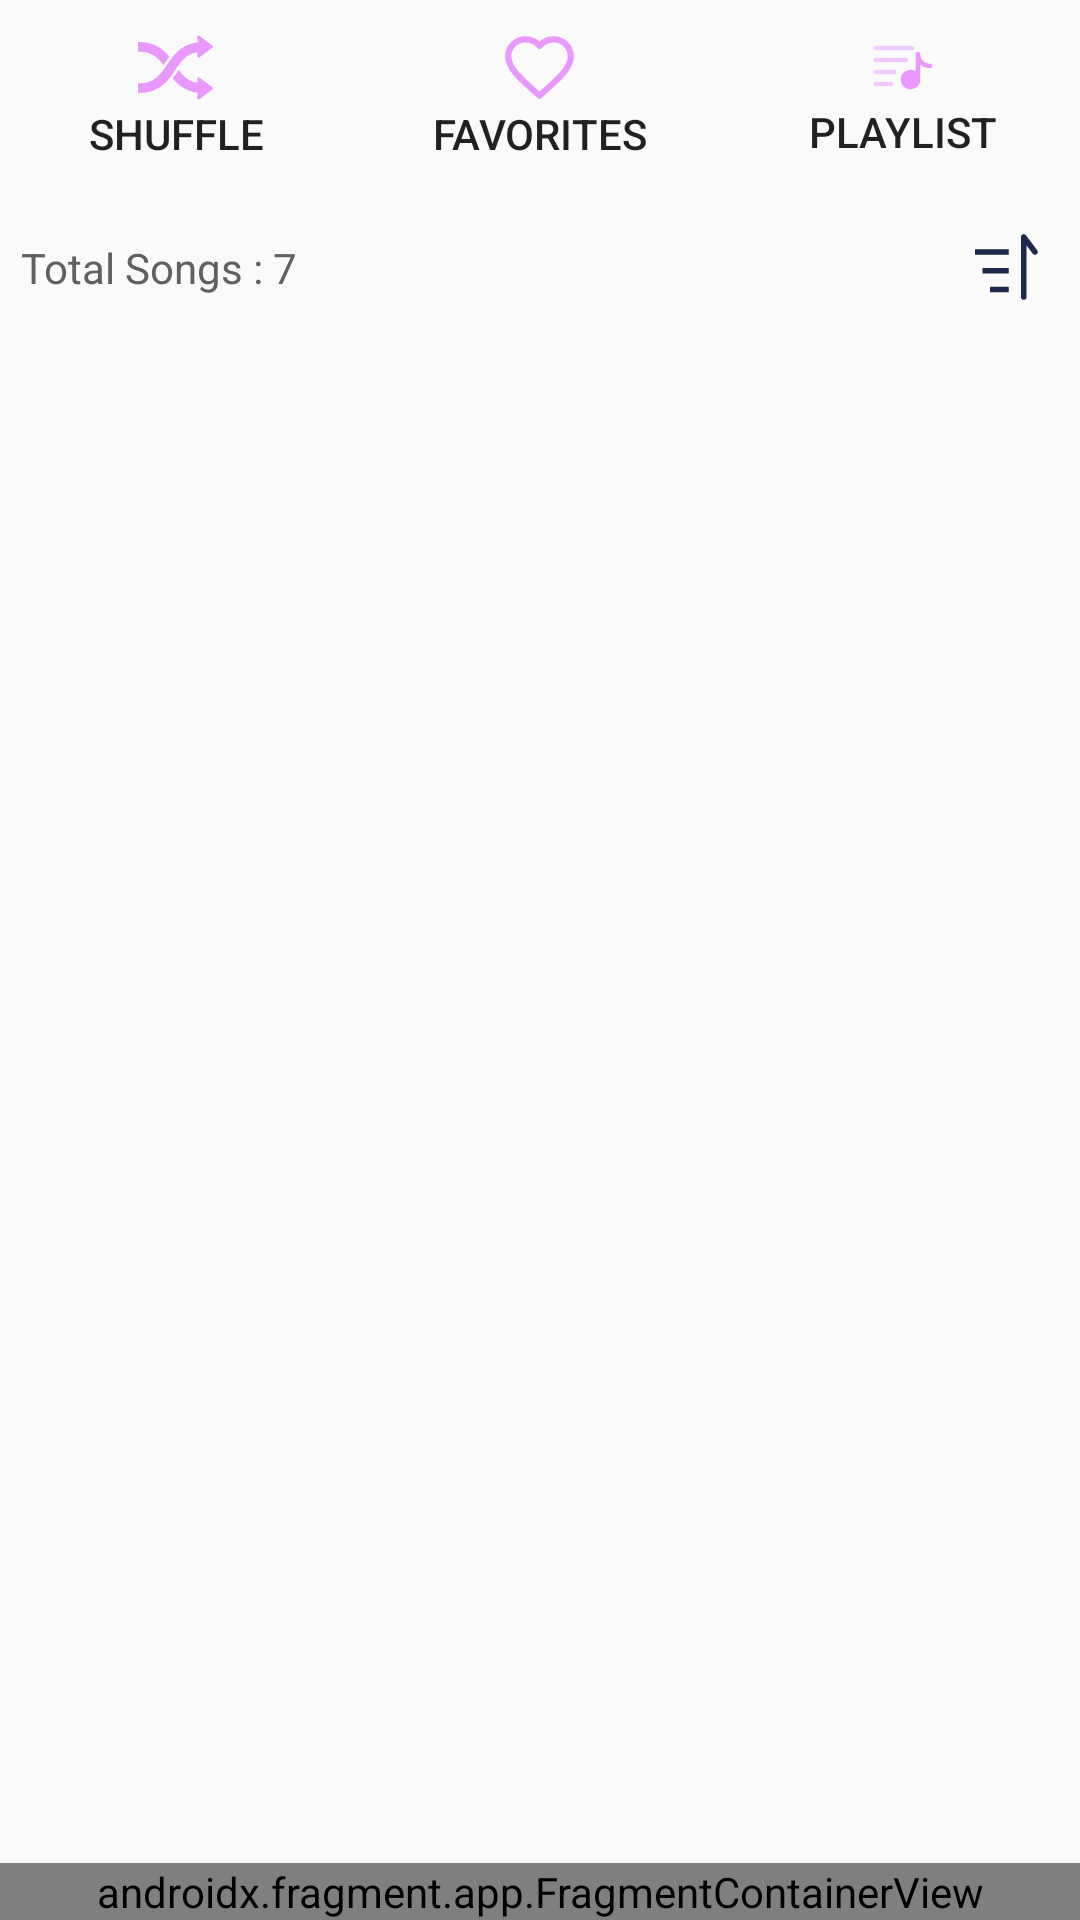

Locate icon controls on the screen. Image size 1080x1920, boxes as (x1, y1, x2, y2).
sort: (975, 234, 1038, 300)
